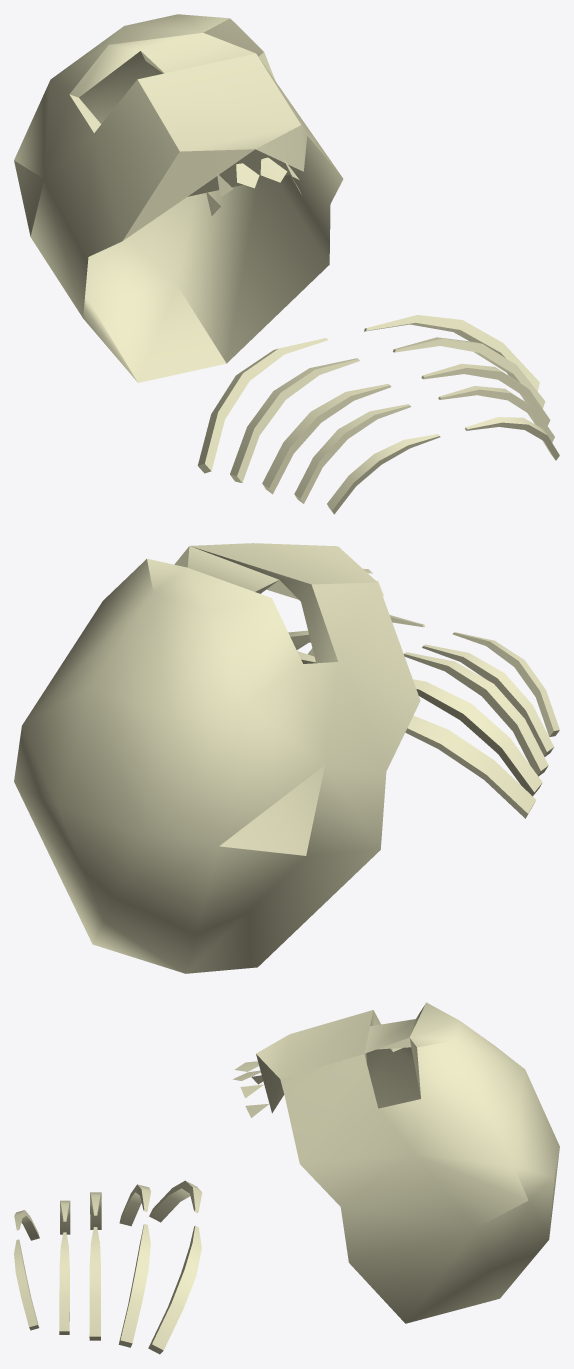
Rendered from Skelton.fbx.
The picture shows the model from 3 angles, top to bottom: view 1: azimuth 30°, elevation 25°; view 2: azimuth 150°, elevation 25°; view 3: azimuth 270°, elevation 25°; orthographic projection. The views are drawn at different scales.
Parts seen in each view (by area): view 1: Skeleton; view 2: Skeleton; view 3: Skeleton.
Part boxes in pixels (x1=…): Skeleton: x1=14, y1=14, x2=559, y2=514; Skeleton: x1=14, y1=543, x2=559, y2=973; Skeleton: x1=14, y1=1002, x2=559, y2=1354.
Bounding box in the file's own units: 14.34 × 13.9 × 24.38.
